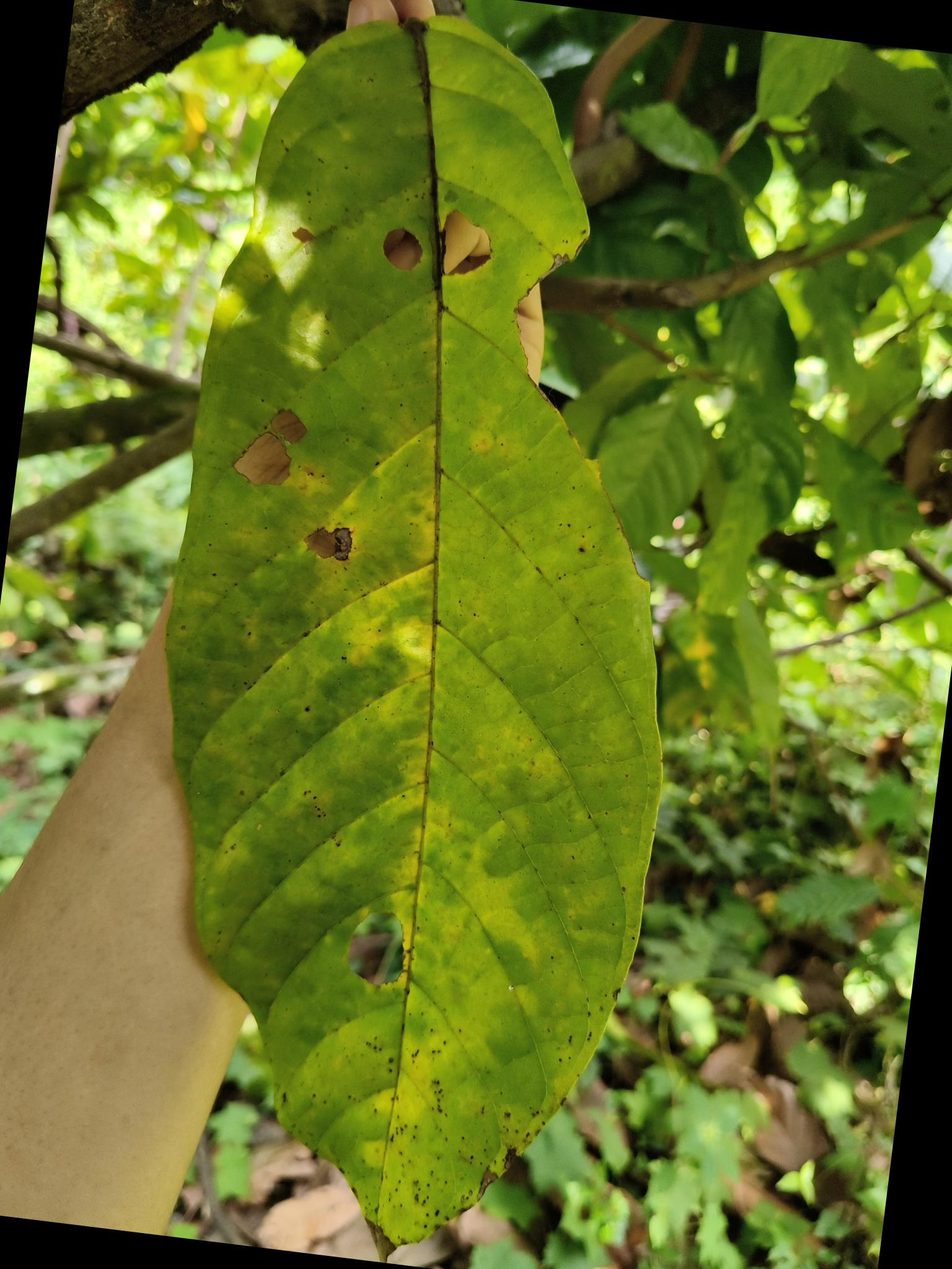Fosforo: (173, 17, 657, 1258)
